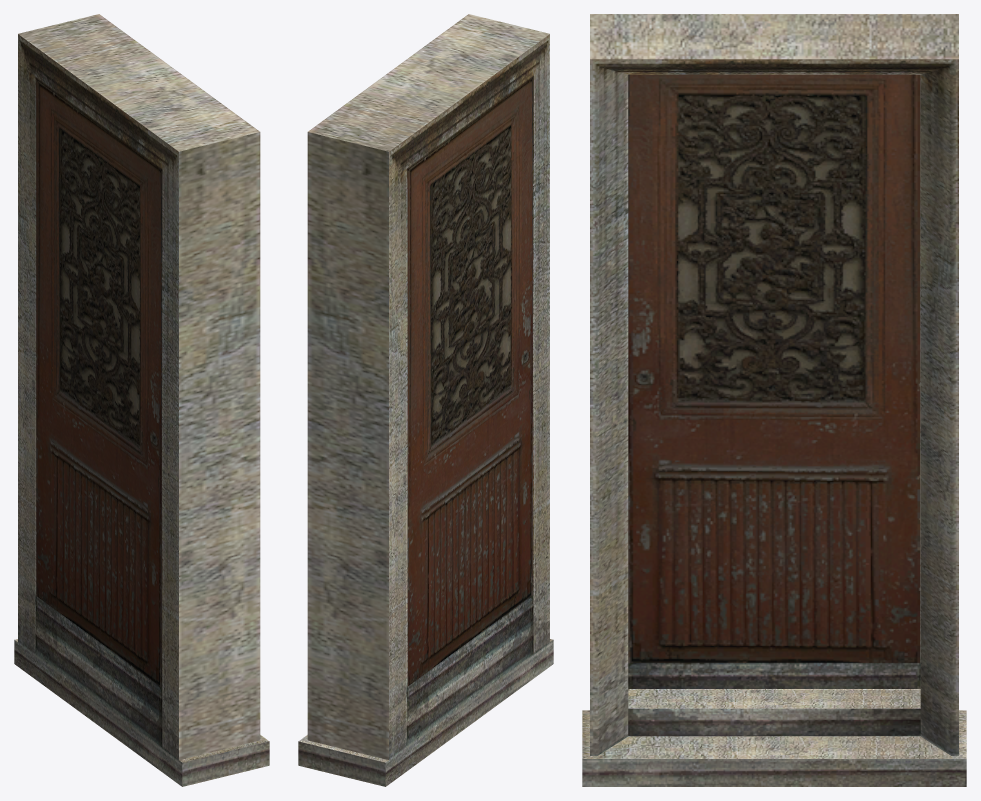
Rendered from doora.glb.
The picture shows the model from 3 angles, left to right: view 1: azimuth 30°, elevation 25°; view 2: azimuth 150°, elevation 25°; view 3: azimuth 270°, elevation 25°; orthographic projection. The views are drawn at different scales.
Parts seen in each view (by area): view 1: doora; view 2: doora; view 3: doora.
Boxes of the visible parts, <box> form: doora: <box>14,14,269,786</box>; doora: <box>298,14,553,786</box>; doora: <box>582,14,966,786</box>.
Bounding box in the file's own units: 0.2857 × 1.98 × 0.9525.
Materials: 1 (1 with a texture image).
